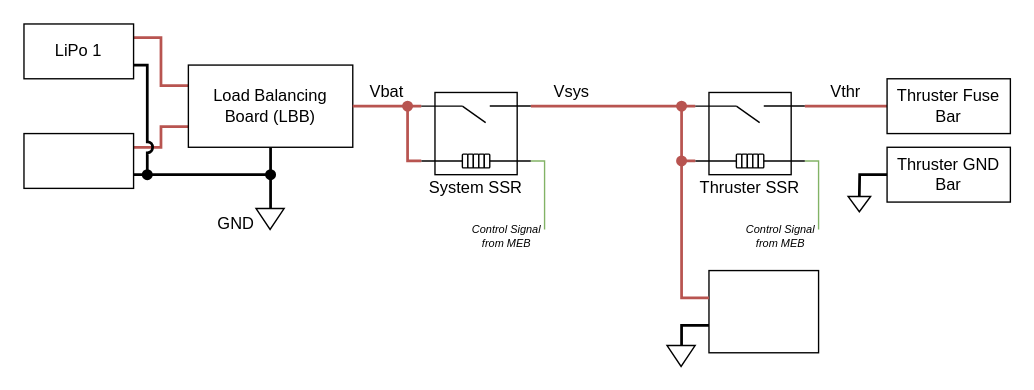
Some shapes in this 1034 by 390 pixel diagram are drawn without their labels. Here are the shapes that lost their labels. From the top down, the box of each, then its label:
(23, 132, 134, 188): LiPo 2
(708, 269, 819, 353): System Powerpole Bar
